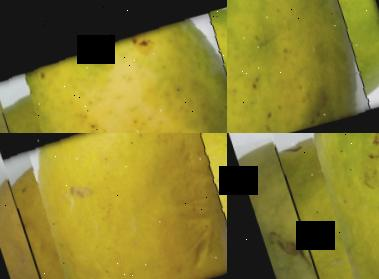PartiallyRipe: (0, 0, 227, 133), (227, 0, 379, 133), (257, 133, 379, 279)
Ripe: (0, 133, 227, 279)
